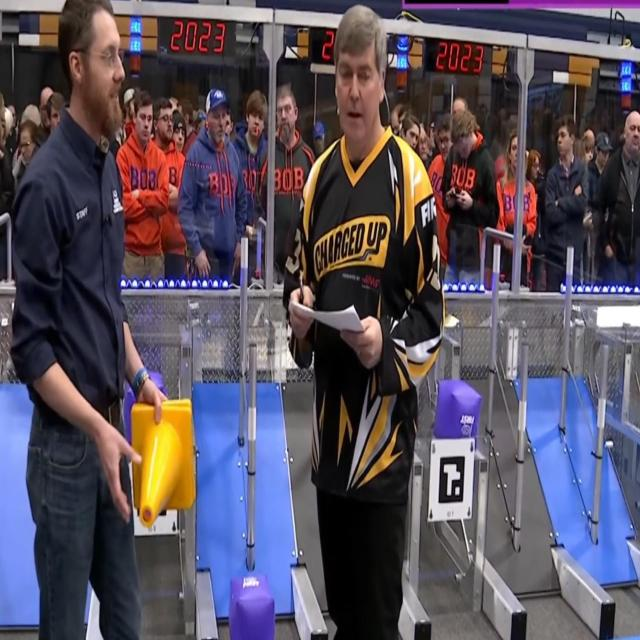frc_cone: (131, 398, 195, 526)
frc_cube: (433, 378, 480, 446), (228, 574, 276, 640), (122, 369, 164, 439)
